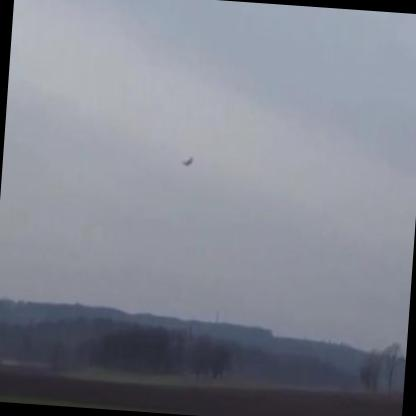plane: (178, 152, 199, 171)
